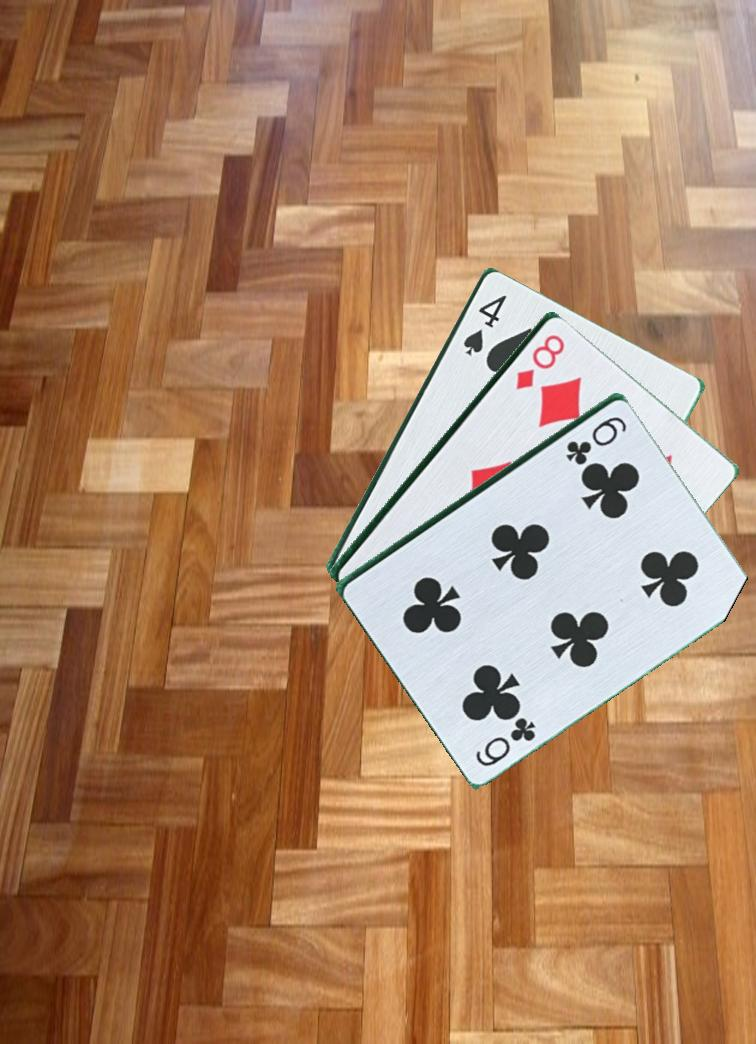4s: (459, 290, 510, 358)
6c: (460, 708, 539, 769), (562, 412, 630, 464)
8d: (512, 322, 567, 393)
